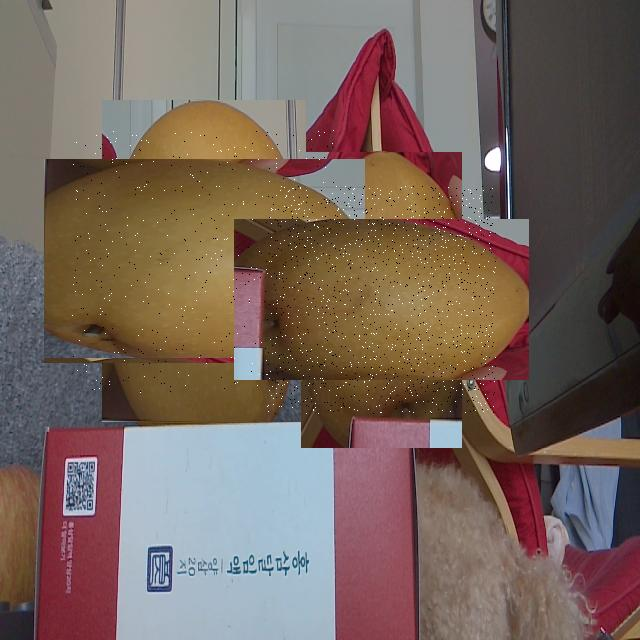pear: (72, 130, 336, 393), (267, 186, 496, 414)
